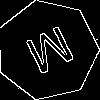M: (22, 25, 82, 84)
